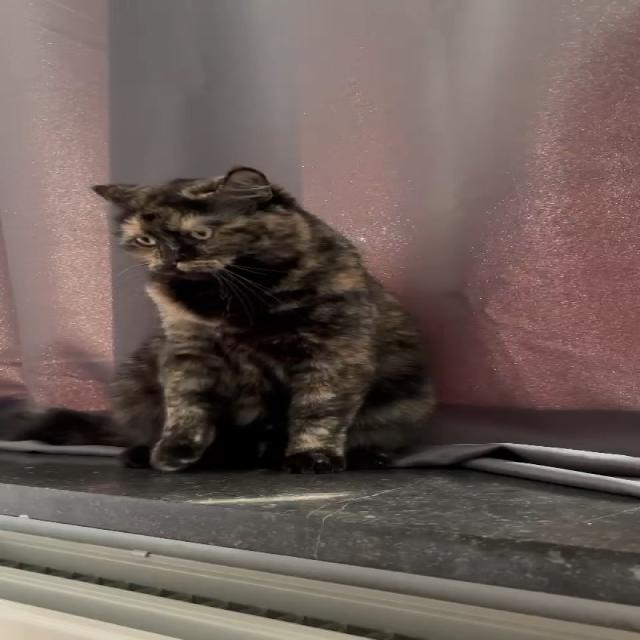authorized: (88, 164, 437, 474)
